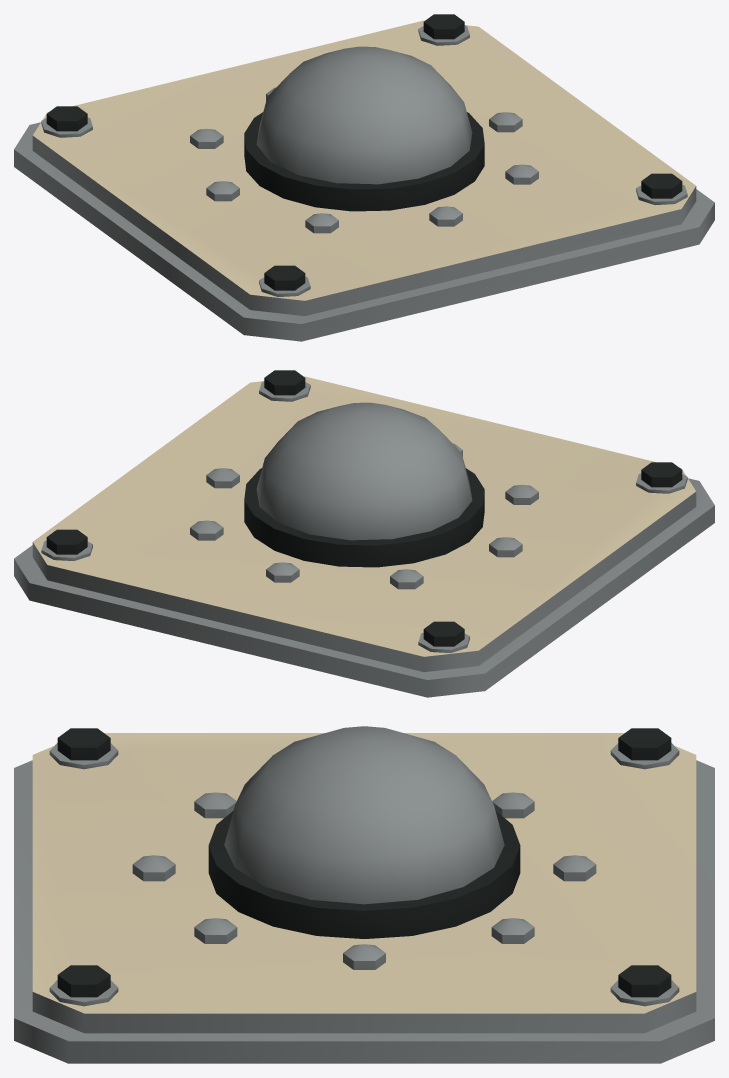
Rendered from panel_rivet.glb.
3 renders of one model, top to bottom at view 1: azimuth 30°, elevation 25°; view 2: azimuth 150°, elevation 25°; view 3: azimuth 270°, elevation 25°, orthographic. The views are drawn at different scales.
Parts seen in each view (by area): view 1: panel_rivet; view 2: panel_rivet; view 3: panel_rivet.
Boxes of the visible parts, bbox=[...] form: panel_rivet: bbox=[14, 14, 714, 341]; panel_rivet: bbox=[14, 370, 714, 697]; panel_rivet: bbox=[14, 726, 714, 1063].
Size of the model in its own units: 0.45 by 0.1476 by 0.45.
